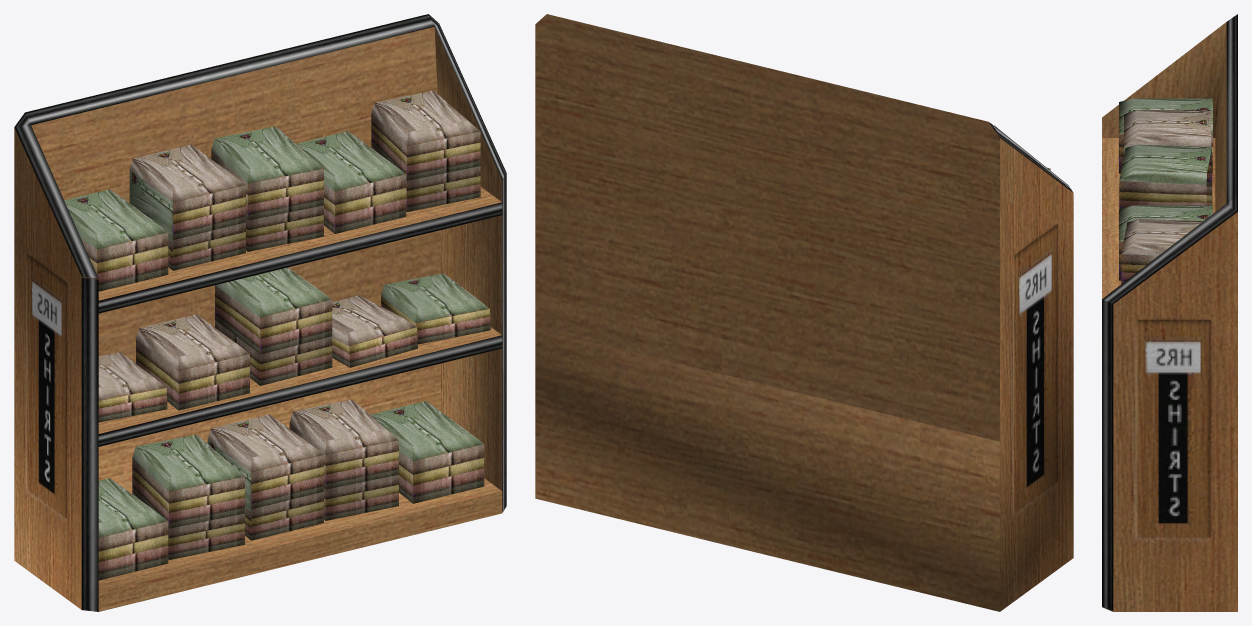
Rendered from shelves_shirts.fbx.
3 renders of one model, left to right at view 1: azimuth 30°, elevation 25°; view 2: azimuth 150°, elevation 25°; view 3: azimuth 270°, elevation 25°, orthographic. The views are drawn at different scales.
Visible parts, largest first — view 1: mesh_3, mesh_1, mesh_10, mesh_15, mesh_5, mesh_2, mesh_14, mesh_9, mesh_4, mesh_17, mesh_6, mesh_16 (+6 smaller); view 2: mesh_3; view 3: mesh_3, mesh_9, mesh_1, mesh_5, mesh_2, mesh_0, mesh_8.
Boxes of the visible parts, left/top/right/bottom form: mesh_3: left=14, top=14, right=506, bottom=611; mesh_1: left=129, top=144, right=245, bottom=270; mesh_10: left=215, top=267, right=332, bottom=385; mesh_15: left=132, top=434, right=244, bottom=559; mesh_5: left=98, top=187, right=502, bottom=313; mesh_2: left=371, top=90, right=480, bottom=211; mesh_14: left=207, top=414, right=323, bottom=540; mesh_9: left=211, top=126, right=323, bottom=251; mesh_4: left=98, top=305, right=502, bottom=446; mesh_17: left=289, top=399, right=398, bottom=520; mesh_6: left=136, top=314, right=249, bottom=410; mesh_16: left=370, top=401, right=484, bottom=503; mesh_3: left=535, top=14, right=1073, bottom=611; mesh_3: left=1102, top=14, right=1237, bottom=611; mesh_9: left=1119, top=144, right=1212, bottom=208; mesh_1: left=1124, top=110, right=1211, bottom=154; mesh_5: left=1102, top=138, right=1215, bottom=298; mesh_2: left=1121, top=219, right=1203, bottom=284; mesh_0: left=1119, top=205, right=1212, bottom=280; mesh_8: left=1119, top=98, right=1212, bottom=173.
Bounding box in the file's own units: 160 × 160 × 47.89.
Materials: 1 (1 with a texture image).
